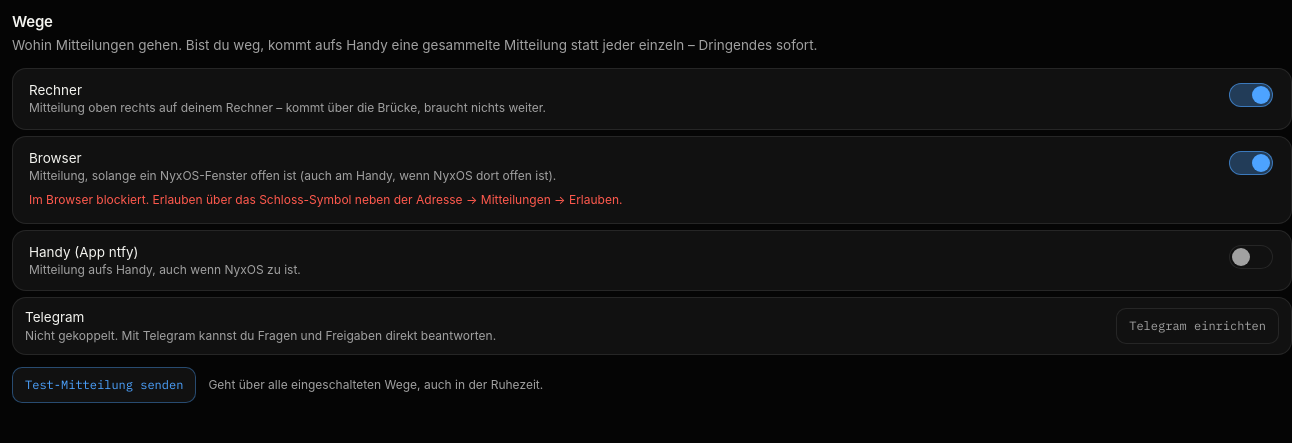
Mitteilungen → Wege (früher PushSettingsPanel) › stürzt nicht ab, wenn die Test-Antwort keine Liste enthält (älterer Server)
Click the button "Test-Mitteilung senden". click: [104, 385]
box: [12,367,196,403]
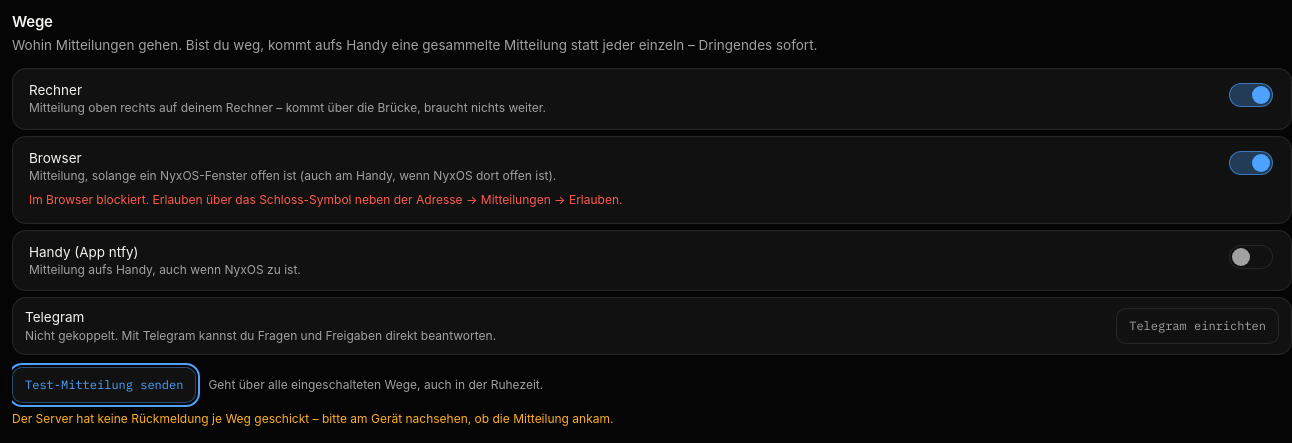
Now the text "keine Rückmeldung je Weg" is shown, box [12,411,614,426]
